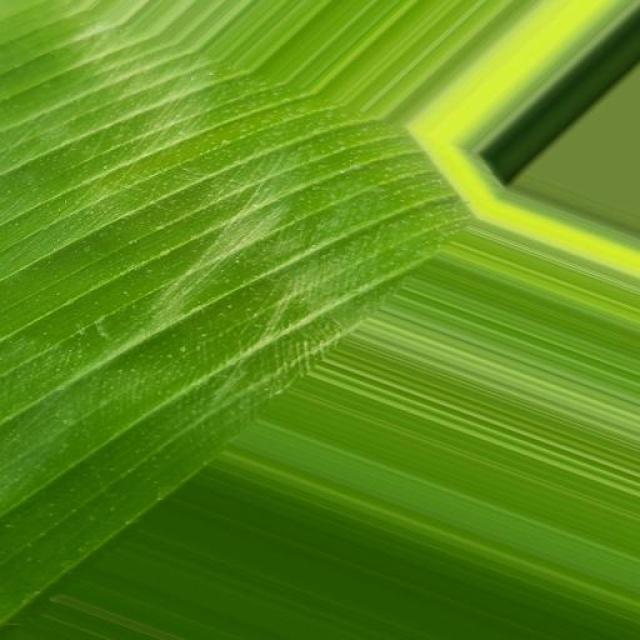Black_leaf_spot: (0, 28, 583, 550)
